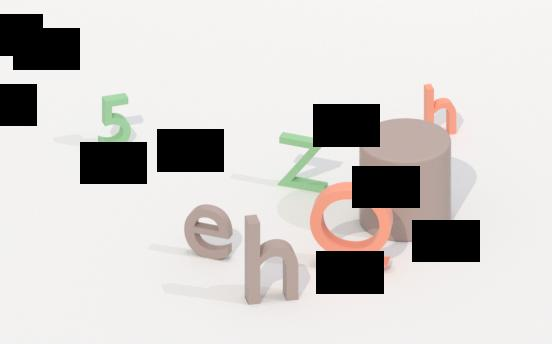5: (94, 90, 138, 151)
e: (182, 204, 238, 262)
h: (242, 213, 302, 308), (419, 79, 463, 139)
q: (303, 187, 393, 272)
tru: (357, 118, 451, 244)
z: (276, 128, 334, 191)
